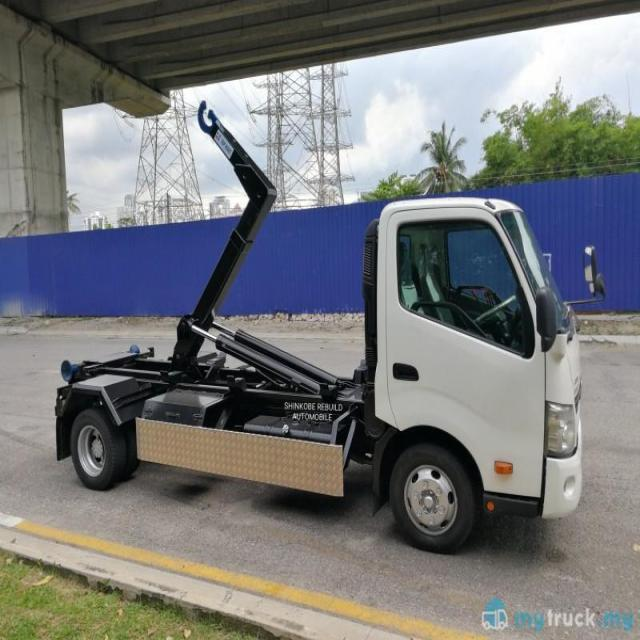truck: (56, 103, 588, 548)
